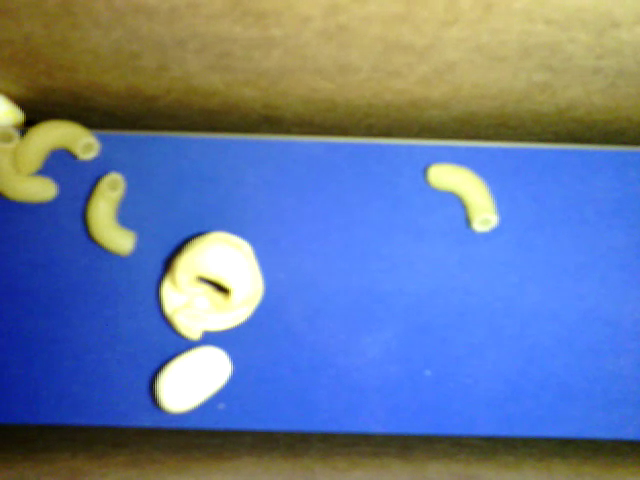elbow: (424, 161, 499, 232), (15, 119, 103, 175), (81, 171, 136, 259), (1, 125, 59, 203)
tortellini: (160, 231, 264, 342)
